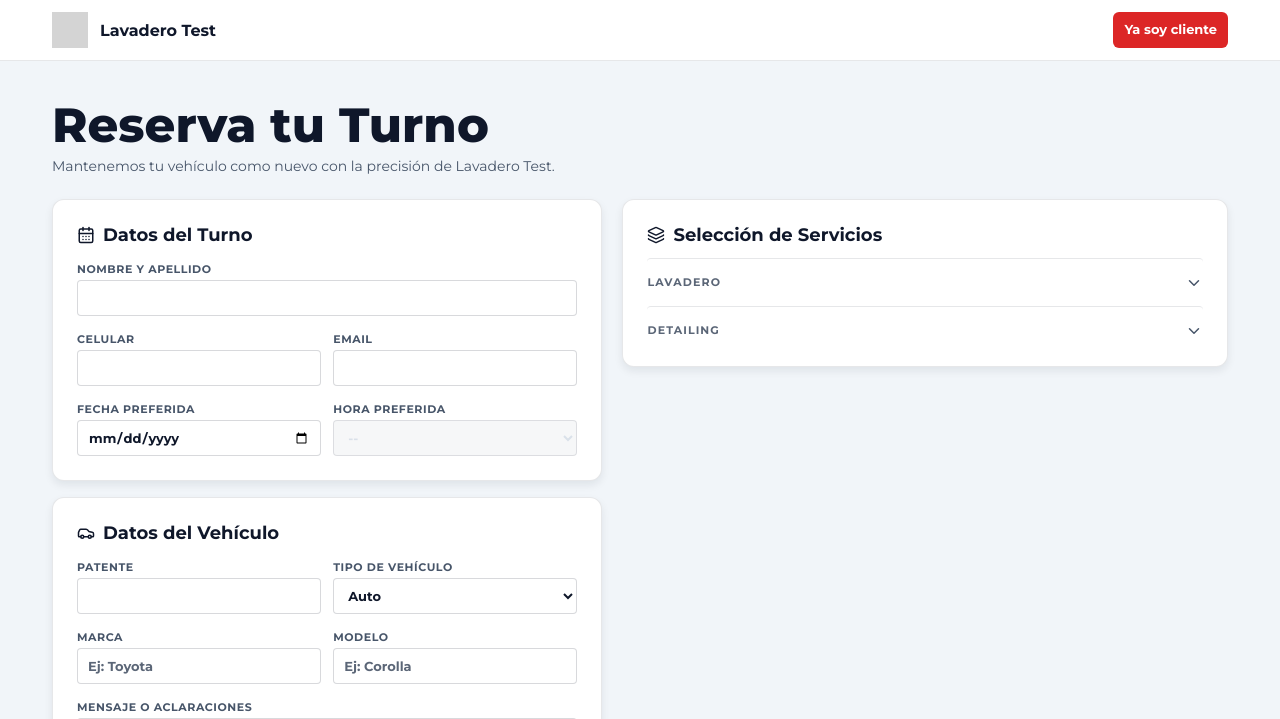
Test: muestra el campo "Hora preferida" y el mensaje del backend cuando el submit falla por field error
Click the button "Lavadero". click: click(684, 282)
box: [648,258,1203,294]
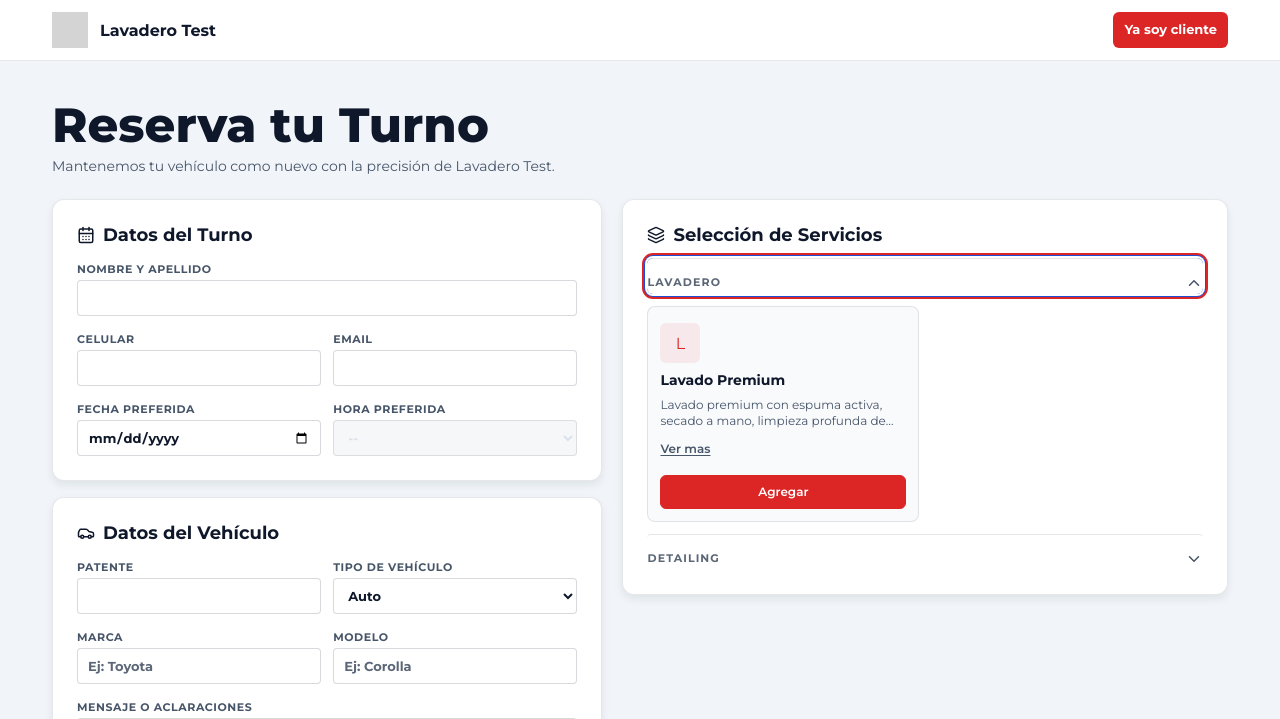
Click the button with aria-label "Lavado Premium". click: click(783, 492)
box: [660,475,906,509]
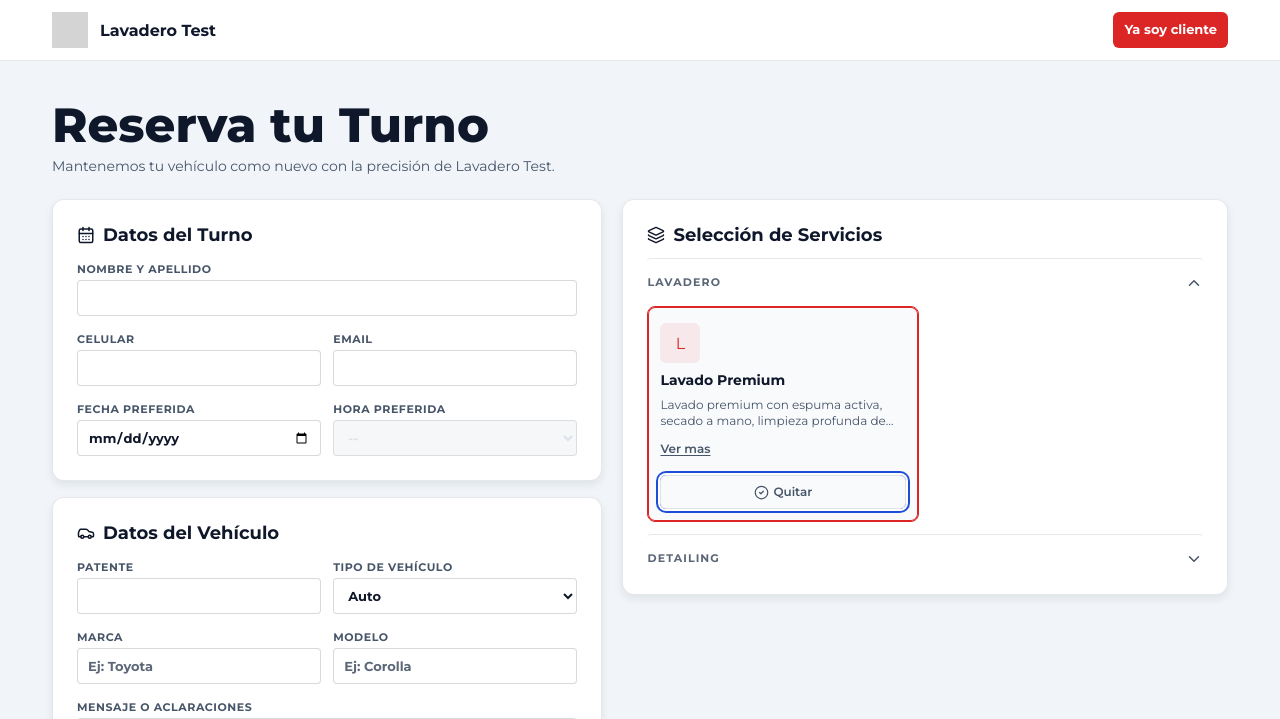
Type "Juan Pablo" into the field labelled "Nombre y apellido". click: (327, 298)
box: [77,280,578,316]
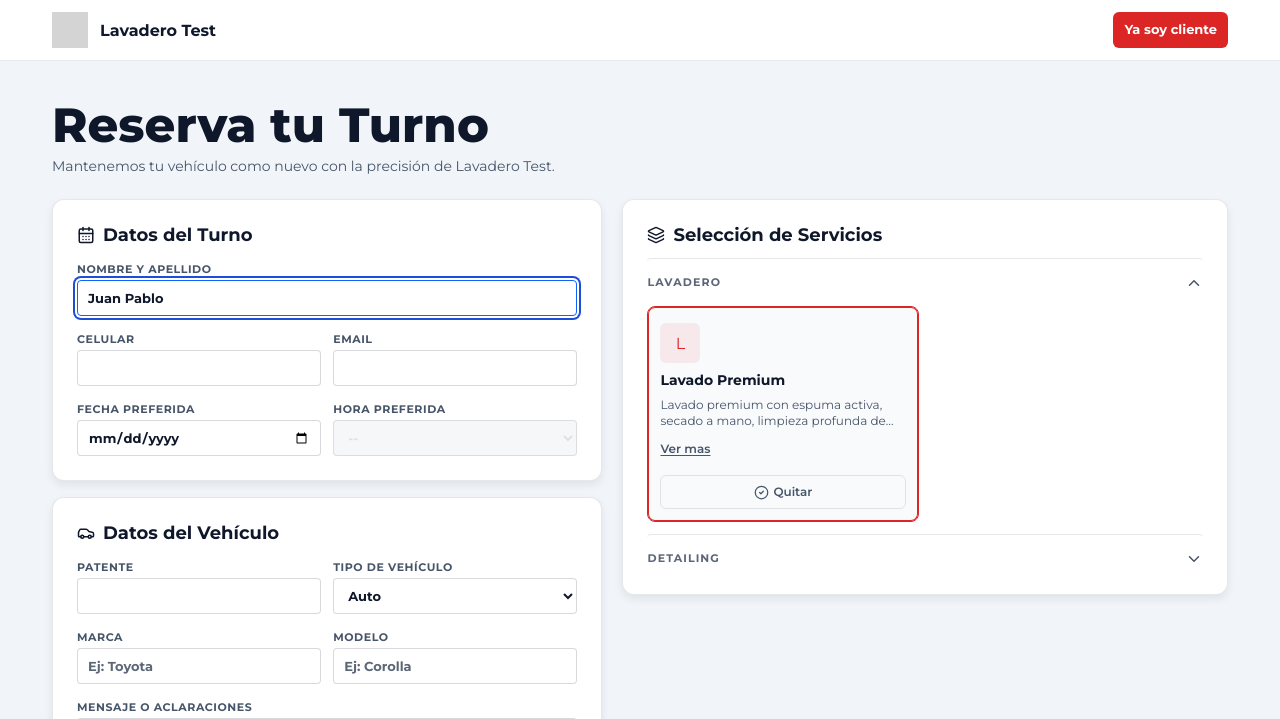
Type "1164321234" into the field labelled "Celular". click: (199, 368)
box: [77,350,321,386]
(page scrolled)
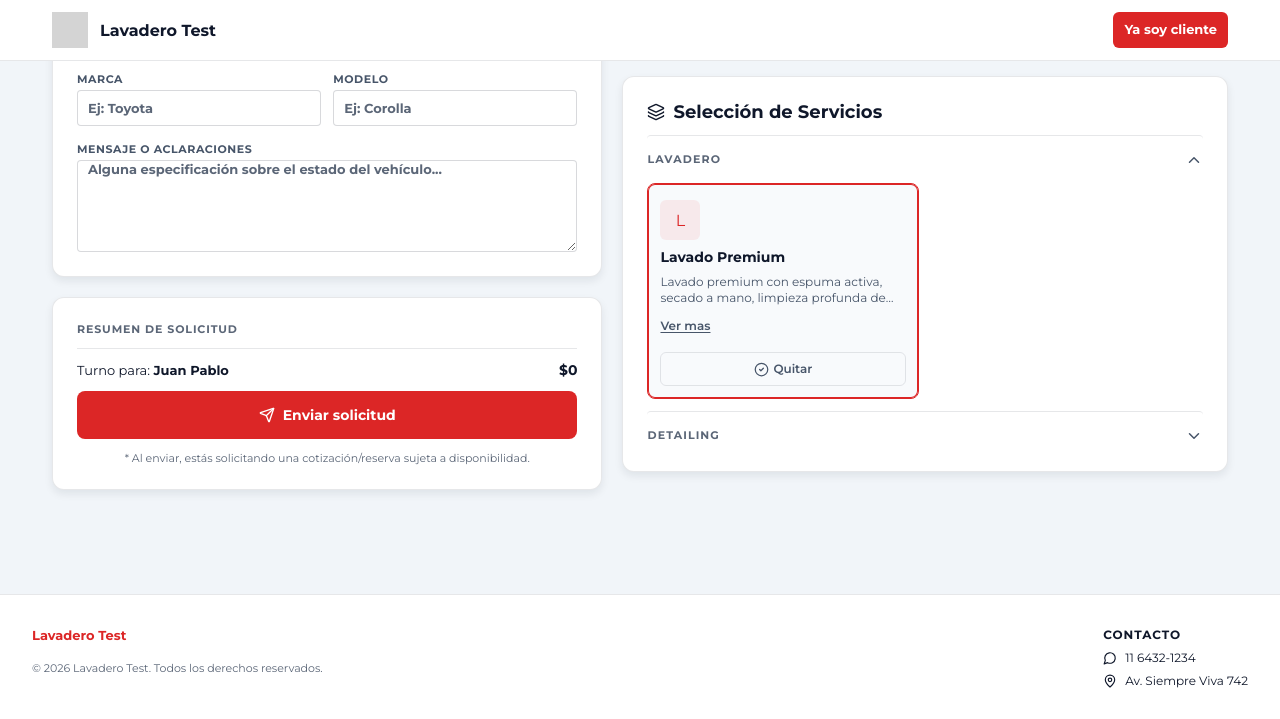
Click the button "Enviar solicitud". click: click(327, 415)
box: [77,391,578,439]
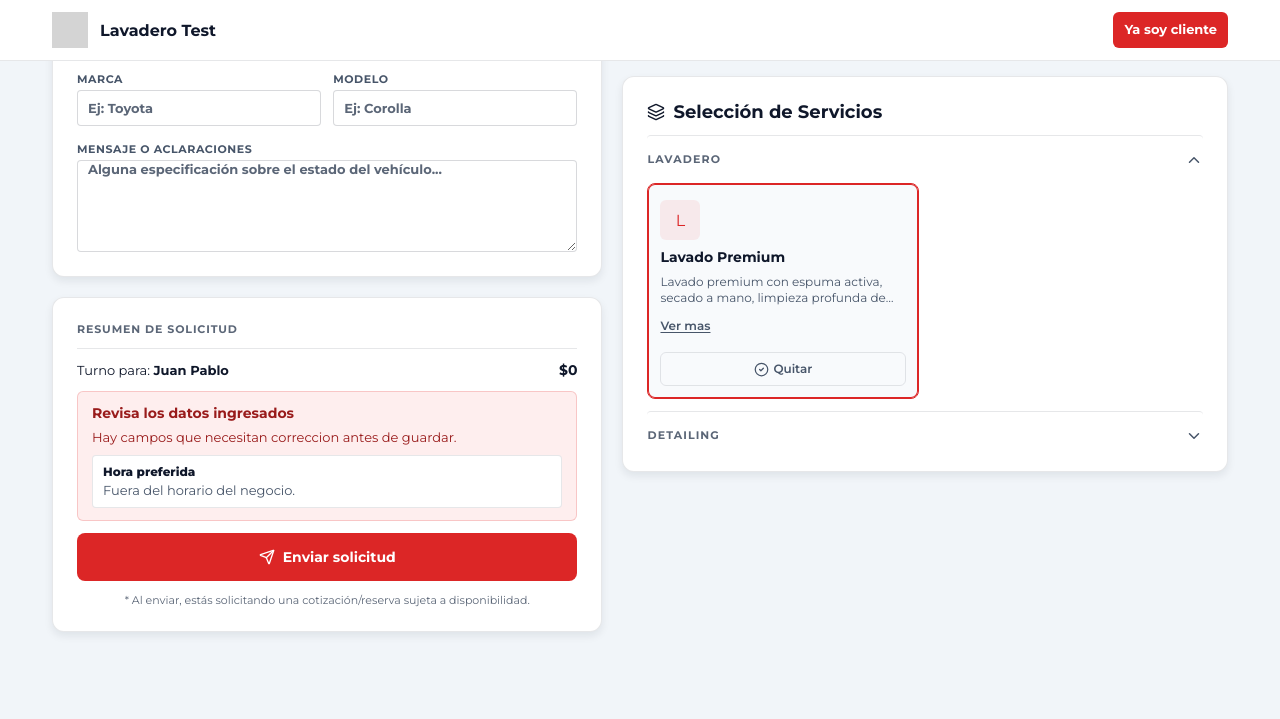
Expected: the message shows "Hora preferida", [103,464,195,479]
Expected: the message shows "Fuera del horario del negocio", [103,482,295,498]
